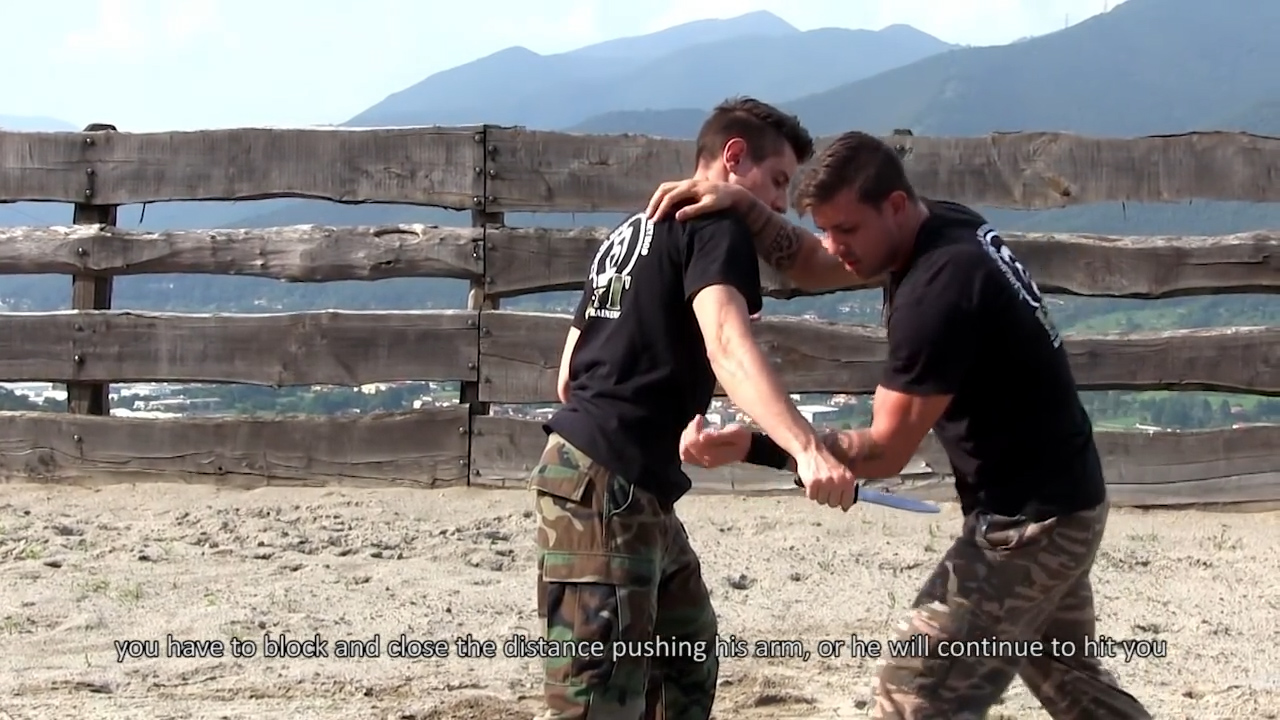knife: (787, 466, 947, 520)
